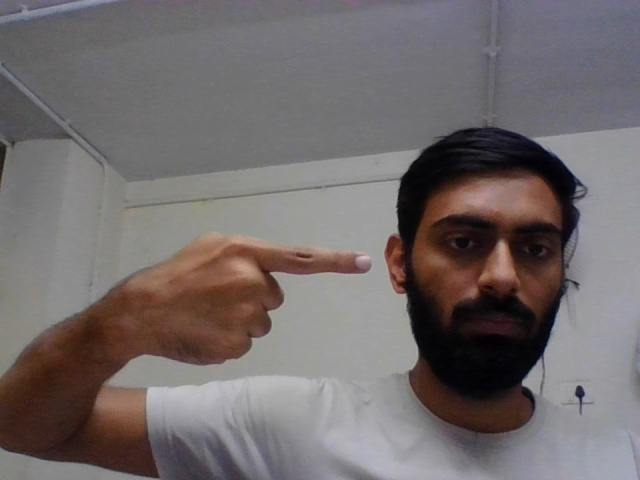G: (123, 225, 376, 370)
